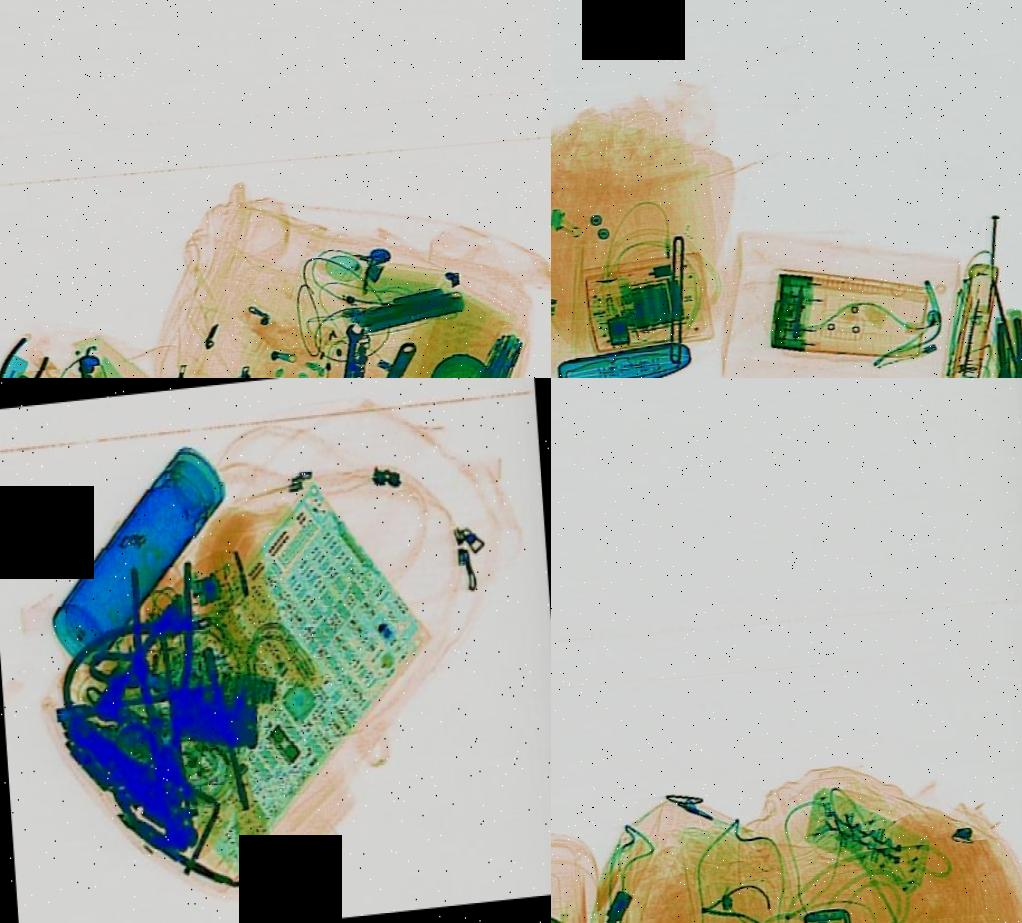Pliers: (127, 556, 206, 779), (0, 326, 63, 378), (994, 315, 1022, 378)
Wrench: (339, 328, 438, 378), (321, 316, 378, 378)
